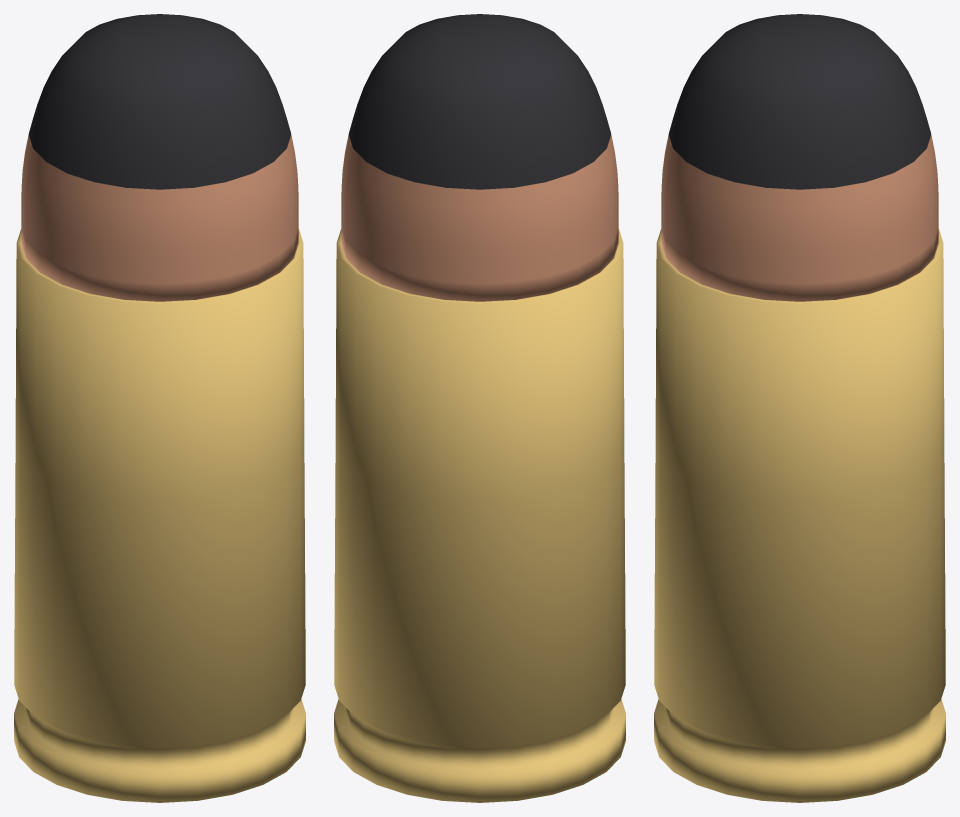
The model's file is 45acp_ap.glb.
3 views of the same model, side by side, from view 1: azimuth 30°, elevation 25°; view 2: azimuth 150°, elevation 25°; view 3: azimuth 270°, elevation 25° (orthographic).
Parts seen in each view (by area): view 1: vaina, punta, bala_cuerpo; view 2: vaina, punta, bala_cuerpo; view 3: vaina, punta, bala_cuerpo.
Boxes of the visible parts, x1=… form: vaina: x1=14, y1=229, x2=305, y2=802; punta: x1=28, y1=14, x2=291, y2=189; bala_cuerpo: x1=21, y1=135, x2=298, y2=301; vaina: x1=334, y1=229, x2=625, y2=802; punta: x1=348, y1=14, x2=611, y2=189; bala_cuerpo: x1=341, y1=135, x2=618, y2=301; vaina: x1=654, y1=229, x2=945, y2=802; punta: x1=668, y1=14, x2=931, y2=189; bala_cuerpo: x1=661, y1=135, x2=938, y2=301.
Size of the model in its own units: 0.0121 by 0.0324 by 0.0121.
